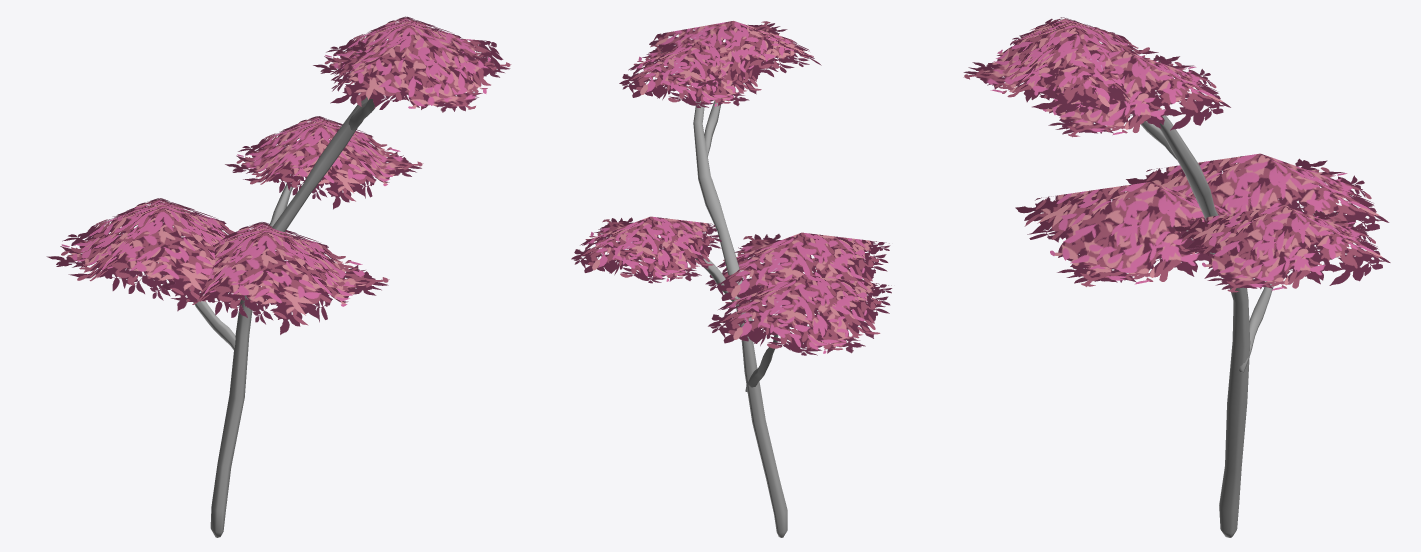
Rendered from pink_tree.fbx.
3 views of the same model, side by side, from view 1: azimuth 30°, elevation 25°; view 2: azimuth 150°, elevation 25°; view 3: azimuth 270°, elevation 25° (orthographic). The views are drawn at different scales.
Parts seen in each view (by area): view 1: pasted__ZBrush_defualt_group19; view 2: pasted__ZBrush_defualt_group19; view 3: pasted__ZBrush_defualt_group19.
Boxes of the visible parts, x1,y1,x2,y2 form: pasted__ZBrush_defualt_group19: (46, 16, 511, 537); pasted__ZBrush_defualt_group19: (571, 21, 892, 537); pasted__ZBrush_defualt_group19: (963, 17, 1390, 537).
Size of the model in its own units: 1.71 by 2.17 by 1.59.
